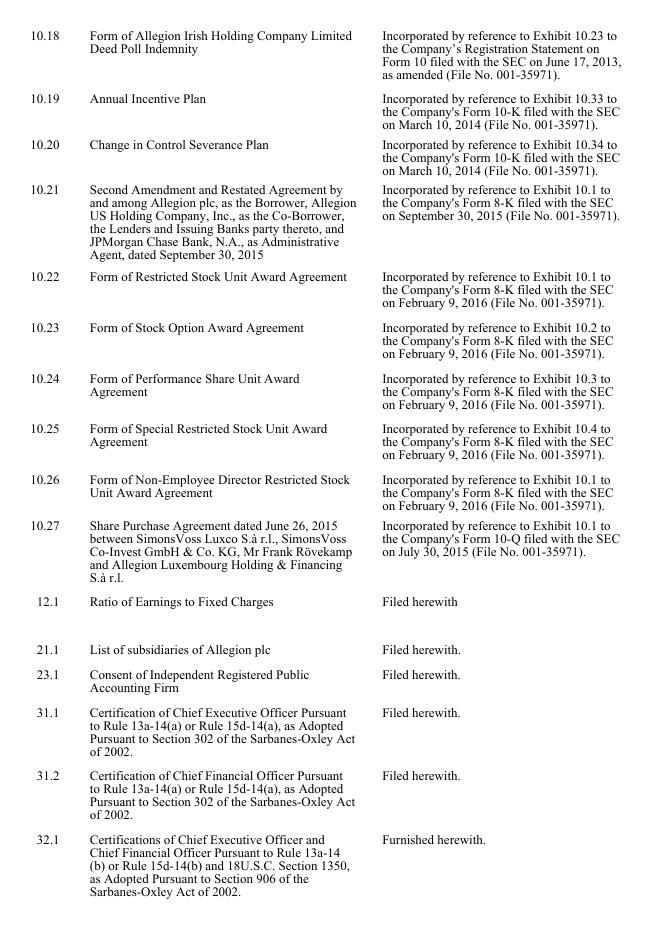table: (29, 27, 620, 897)
table column: (73, 27, 368, 897), (368, 27, 620, 897), (29, 27, 73, 897)
table column header: (29, 27, 620, 85)
table row: (29, 179, 620, 265), (29, 514, 620, 588), (29, 826, 620, 897), (29, 698, 620, 762), (29, 762, 620, 826), (29, 27, 620, 85), (29, 314, 620, 365), (29, 415, 620, 466), (29, 365, 620, 415), (29, 265, 620, 314), (29, 85, 620, 133), (29, 466, 620, 514), (29, 133, 620, 179), (29, 624, 620, 661), (29, 661, 620, 698), (29, 588, 620, 624)
